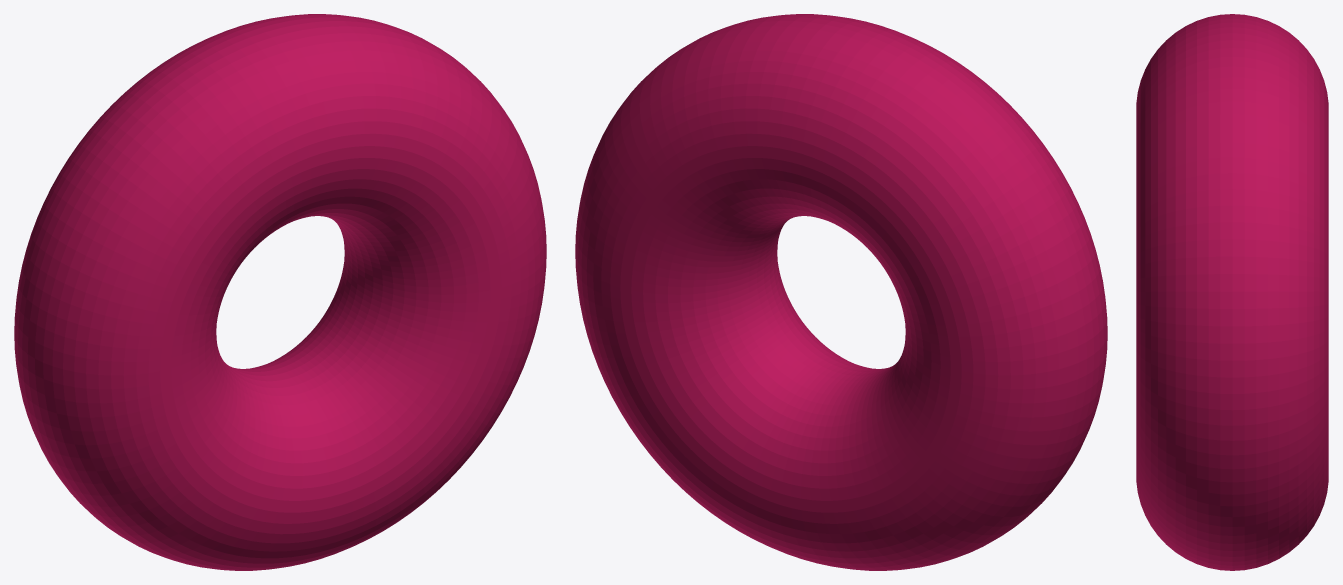
The picture shows the model from 3 angles, left to right: view 1: azimuth 30°, elevation 25°; view 2: azimuth 150°, elevation 25°; view 3: azimuth 270°, elevation 25°; orthographic projection. The views are drawn at different scales.
Visible parts, largest first — view 1: world; view 2: world; view 3: world.
Boxes of the visible parts, left/top/right/bottom form: world: left=14, top=14, right=546, bottom=570; world: left=575, top=14, right=1107, bottom=570; world: left=1136, top=14, right=1328, bottom=570.
Size of the model in its own units: 20.4 by 20.4 by 7.05.
